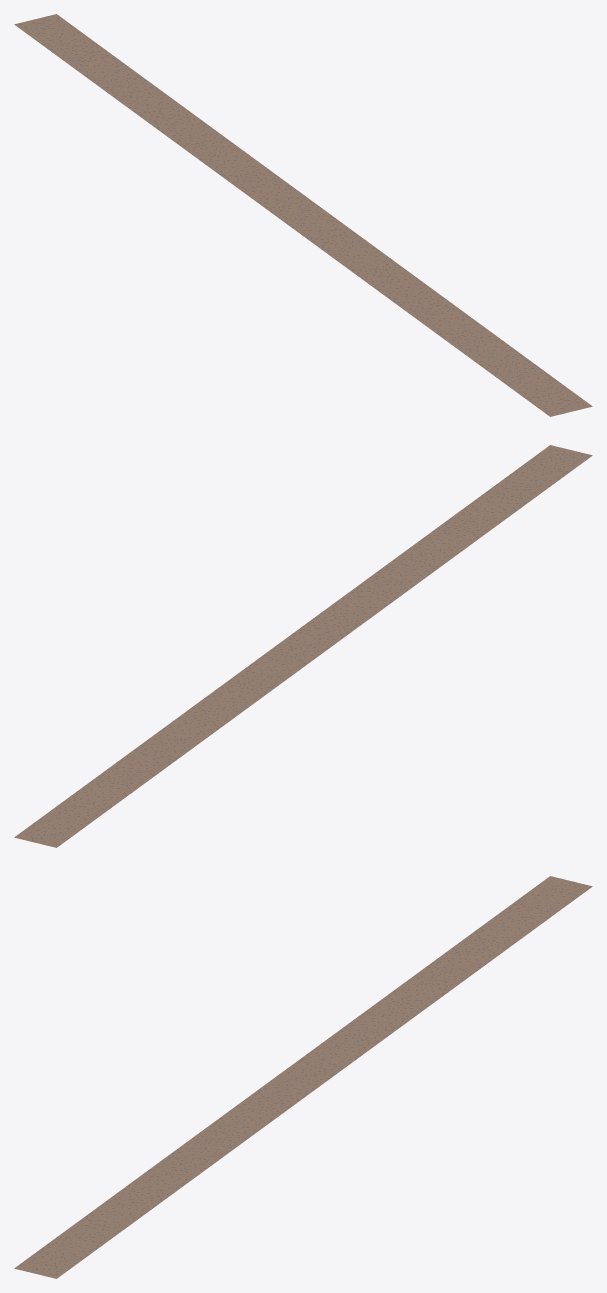
The model's file is kd_stage_135d18_4_111_bounded.glb.
3 views of the same model, one above another, from view 1: azimuth 30°, elevation 25°; view 2: azimuth 150°, elevation 25°; view 3: azimuth 330°, elevation 25° (orthographic).
Parts seen in each view (by area): view 1: kd_stage_135d18_4_111_bounded; view 2: kd_stage_135d18_4_111_bounded; view 3: kd_stage_135d18_4_111_bounded.
Part boxes in pixels (box(x1,y1,x2,y2)): kd_stage_135d18_4_111_bounded: box(14, 14, 592, 416); kd_stage_135d18_4_111_bounded: box(14, 445, 592, 847); kd_stage_135d18_4_111_bounded: box(14, 876, 592, 1278).
Bounding box in the file's own units: 0.1005 × 5.96e-08 × 2.19.
1 material, 1 textured.
